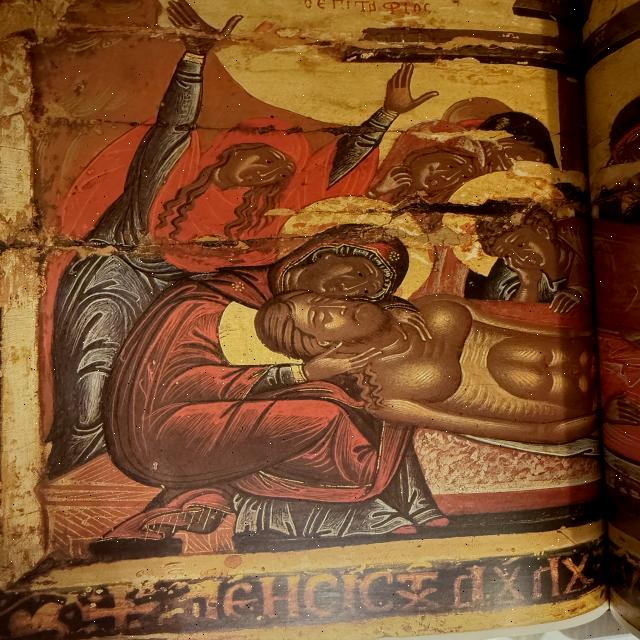aura: (281, 201, 434, 301), (442, 173, 566, 267)
christ_dead: (229, 291, 601, 445)
